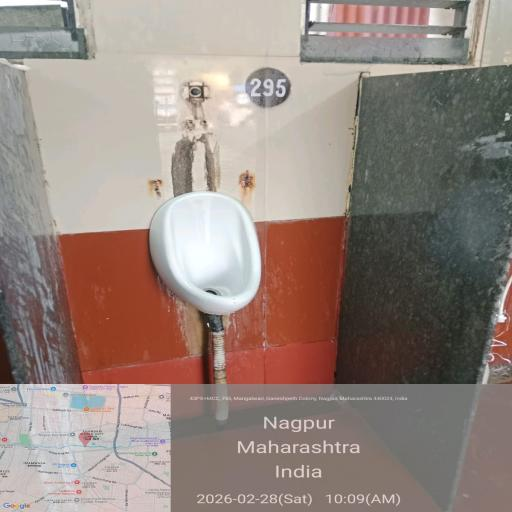clean_floor: (22, 327, 508, 512)
clean_urinal: (130, 194, 316, 321)
partial_dirty_floor: (34, 0, 453, 190)
